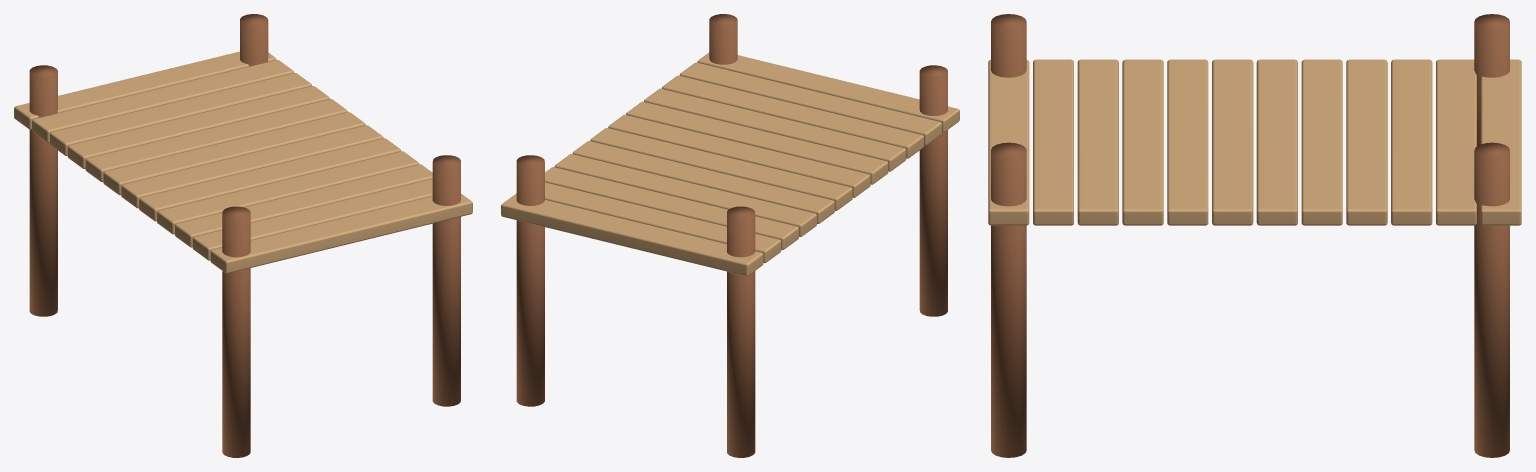
The model's file is Dock_3m_LOD2.glb.
3 renders of one model, left to right at view 1: azimuth 30°, elevation 25°; view 2: azimuth 150°, elevation 25°; view 3: azimuth 270°, elevation 25°, orthographic. The views are drawn at different scales.
Parts seen in each view (by area): view 1: Pile, Pile.002, Pile.001, Deck board, Deck board.006, Deck board.007, Deck board.008, Deck board.005, Deck board.004, Deck board.009, Deck board.010, Deck board.003 (+4 smaller); view 2: Pile.001, Pile.003, Deck board.011, Pile, Deck board.005, Deck board.003, Deck board.004, Deck board.006, Deck board.001, Deck board.002, Deck board.007, Deck board.008 (+4 smaller); view 3: Pile.003, Pile.002, Deck board.002, Deck board.003, Deck board.005, Deck board.006, Deck board.008, Deck board.009, Deck board.004, Deck board.007, Deck board.001, Deck board.010 (+4 smaller).
Part boxes in pixels (x1,y1,x2,y2): Pile: (222, 206, 250, 457); Pile.002: (432, 155, 460, 406); Pile.001: (29, 65, 57, 316); Deck board: (210, 193, 472, 273); Deck board.006: (103, 112, 365, 195); Deck board.007: (85, 99, 347, 182); Deck board.008: (67, 86, 329, 168); Deck board.005: (121, 125, 383, 208); Deck board.004: (139, 138, 401, 221); Deck board.009: (50, 73, 311, 155); Deck board.010: (32, 60, 294, 142); Deck board.003: (157, 151, 419, 234); Pile.001: (727, 206, 755, 457); Pile.003: (516, 155, 544, 406); Deck board.011: (501, 193, 763, 276); Pile: (919, 65, 947, 316); Deck board.005: (608, 114, 870, 197); Deck board.003: (644, 88, 906, 171); Deck board.004: (626, 101, 888, 184); Deck board.006: (590, 128, 852, 210); Deck board.001: (679, 62, 941, 145); Deck board.002: (662, 75, 923, 158); Deck board.007: (572, 141, 834, 223); Deck board.008: (554, 154, 816, 236); Pile.003: (1474, 142, 1509, 457); Pile.002: (991, 142, 1026, 457); Deck board.002: (1077, 59, 1118, 225); Deck board.003: (1122, 59, 1163, 225); Deck board.005: (1212, 59, 1253, 225); Deck board.006: (1256, 59, 1297, 225); Deck board.008: (1346, 59, 1387, 225); Deck board.009: (1391, 59, 1432, 225); Deck board.004: (1167, 59, 1208, 225); Deck board.007: (1301, 59, 1342, 225); Deck board.001: (1033, 59, 1073, 225); Deck board.010: (1436, 59, 1476, 225).
Size of the model in its own units: 2 by 1.85 by 2.98.
